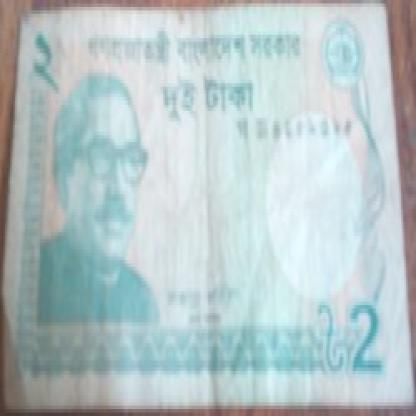two taka: (28, 21, 70, 125), (348, 301, 388, 384)
